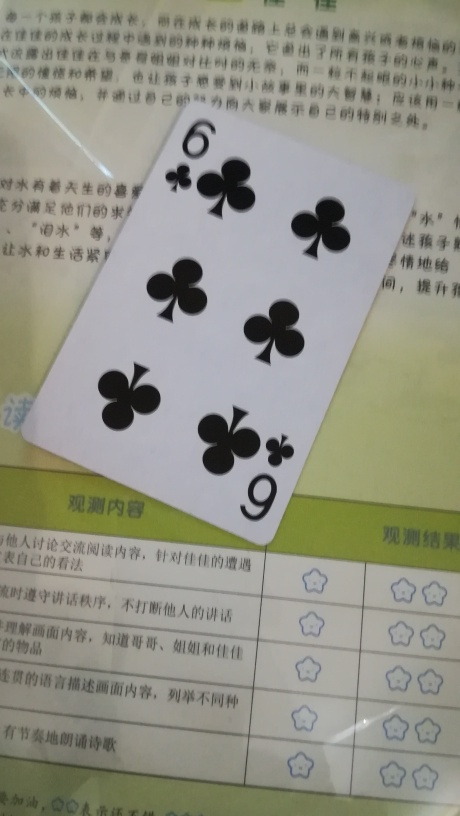mh 6: (18, 101, 413, 551)
